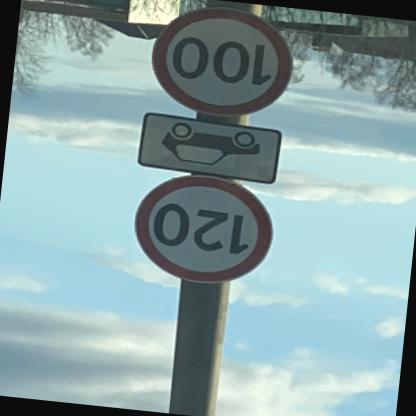speedlimit: (147, 0, 302, 124), (130, 171, 280, 291)
